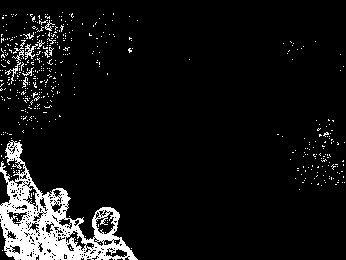person: (1, 178, 46, 260), (39, 186, 85, 260), (83, 206, 138, 260), (1, 140, 39, 192)
